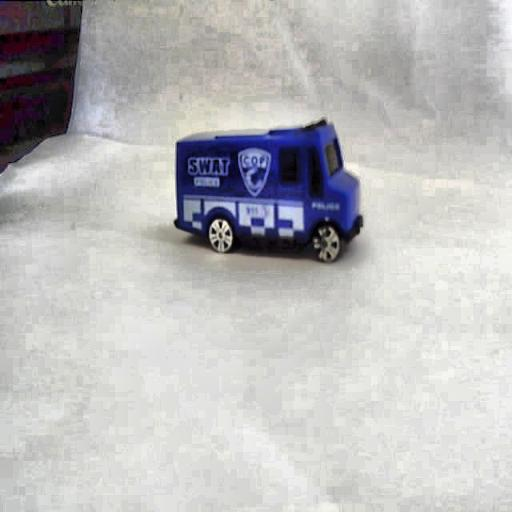police car: (170, 123, 363, 276)
